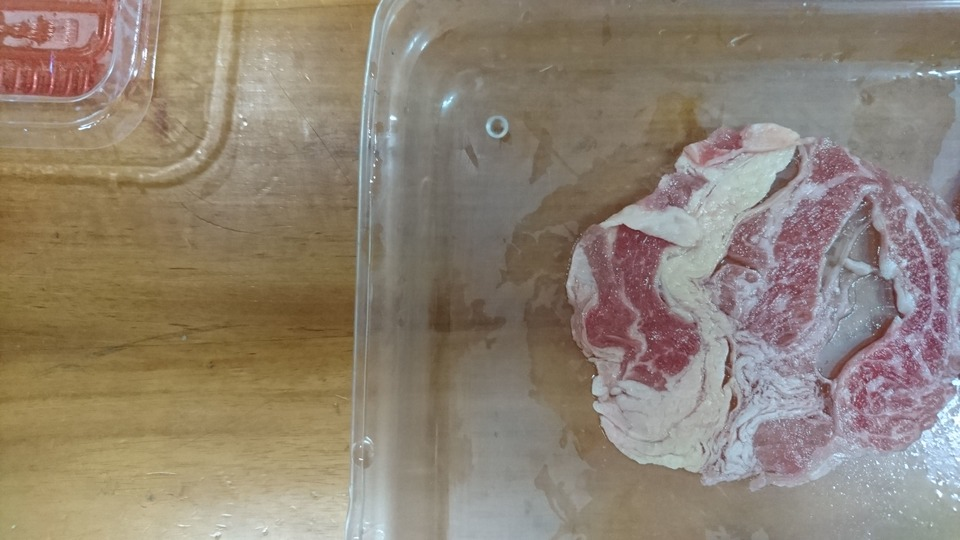restructured meat: (563, 115, 960, 475)
